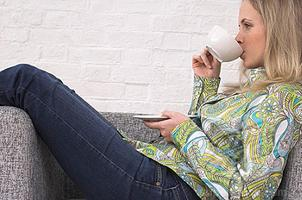person: (2, 2, 302, 199)
